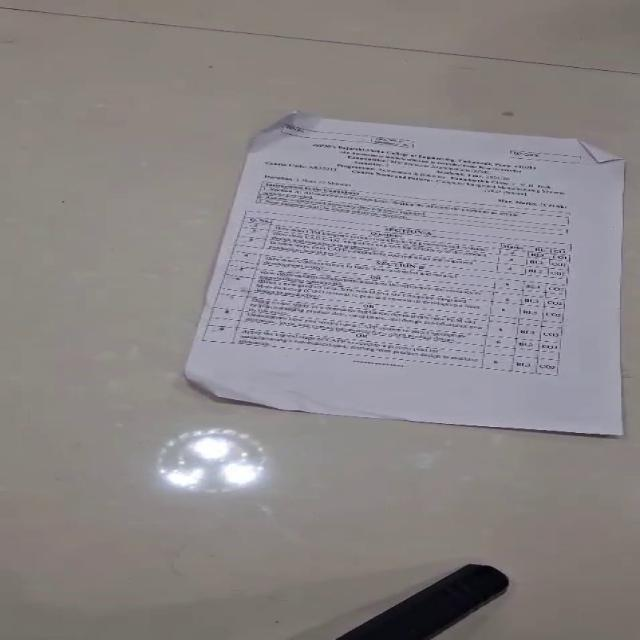paper: (182, 109, 625, 436)
